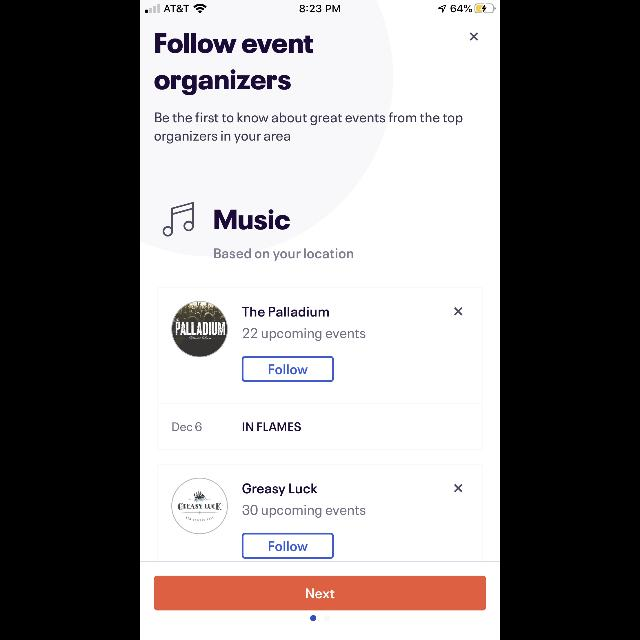icon: (454, 306, 462, 316), (470, 33, 478, 41), (454, 484, 462, 492)
image: (172, 300, 228, 358), (172, 478, 228, 534), (163, 202, 194, 236)
pageindicator: (310, 615, 330, 621)
text: (154, 34, 314, 96), (155, 112, 463, 144), (214, 248, 354, 262), (242, 504, 366, 518), (214, 210, 290, 230), (242, 328, 366, 340), (242, 484, 318, 496), (242, 307, 330, 317), (243, 422, 301, 432), (172, 422, 202, 432)
textbutton: (154, 576, 486, 610), (242, 356, 334, 382), (242, 533, 334, 559)
uppertaskbar: (140, 0, 500, 14)
